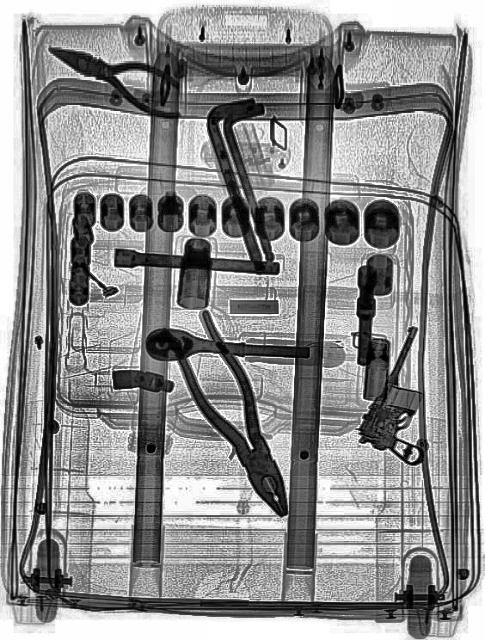Gun: (352, 323, 468, 479)
Pliers: (161, 301, 305, 531), (43, 24, 190, 126)
